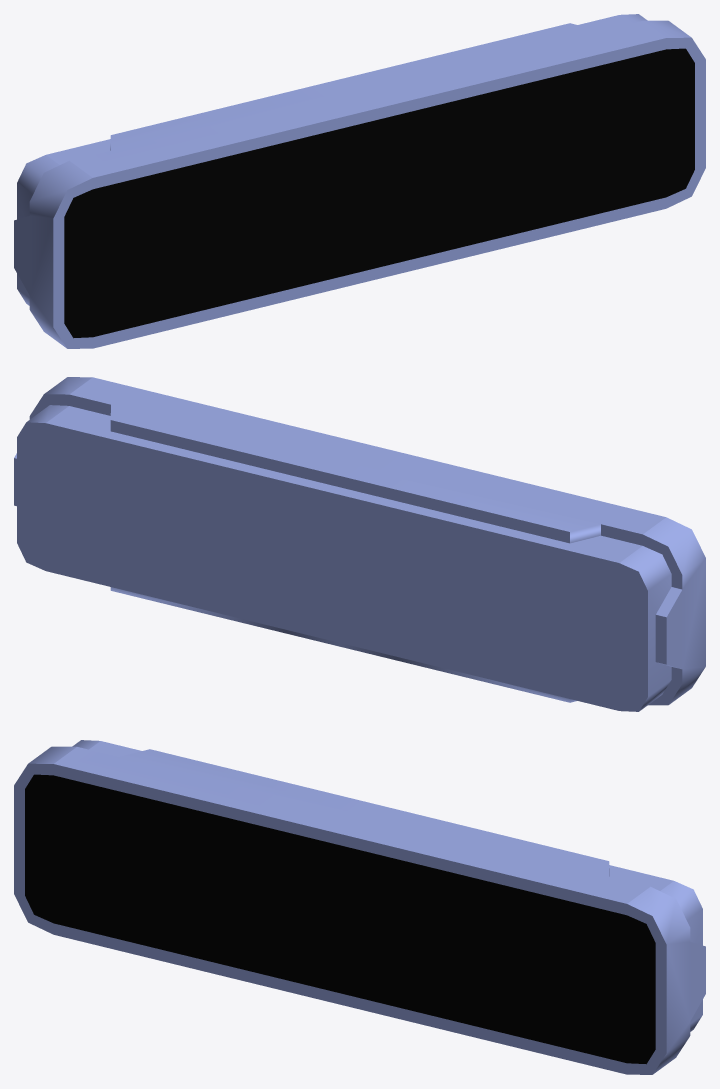
Rendered from rfs_lcd_extralarge_lod1.fbx.
The picture shows the model from 3 angles, top to bottom: view 1: azimuth 30°, elevation 25°; view 2: azimuth 150°, elevation 25°; view 3: azimuth 330°, elevation 25°; orthographic projection.
Parts seen in each view (by area): view 1: obj_interactive_textsign_extralarge_lod1; view 2: obj_interactive_textsign_extralarge_lod1; view 3: obj_interactive_textsign_extralarge_lod1.
Part boxes in pixels (bbox=[...]): obj_interactive_textsign_extralarge_lod1: bbox=[14, 14, 705, 348]; obj_interactive_textsign_extralarge_lod1: bbox=[14, 377, 705, 711]; obj_interactive_textsign_extralarge_lod1: bbox=[14, 740, 705, 1074].
Size of the model in its own units: 8 by 2 by 1.
